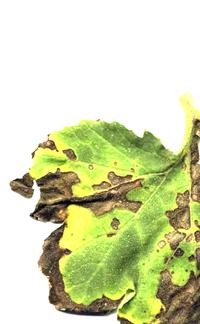Tomato leaf bacterial spot: (19, 119, 200, 324)
